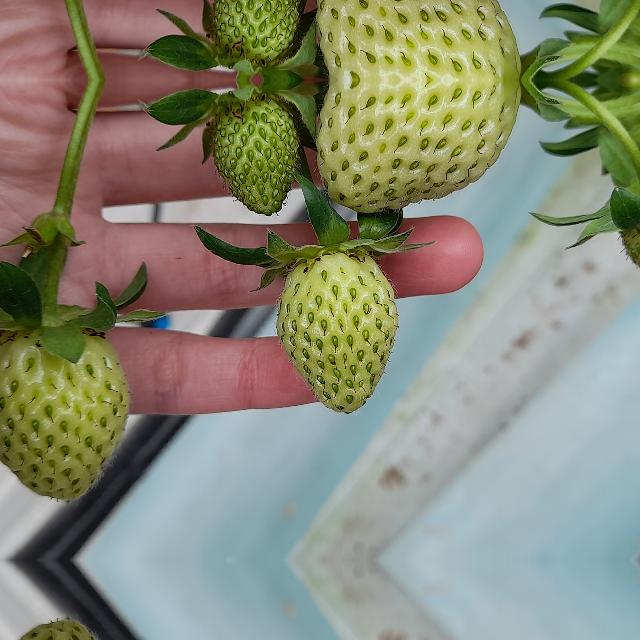Health_25: (316, 80, 520, 214), (0, 319, 128, 504), (276, 252, 398, 412), (316, 0, 519, 80), (204, 92, 300, 216), (204, 0, 300, 68)
